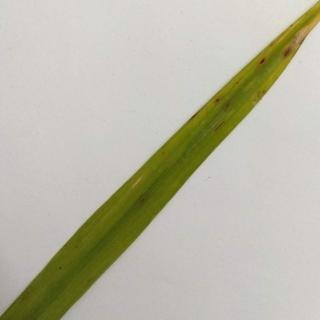bercak-Cokelat: (280, 44, 299, 59), (212, 118, 227, 134), (254, 55, 270, 67), (210, 93, 224, 106)
